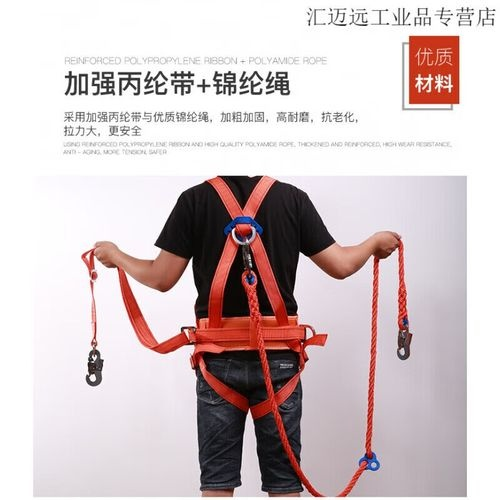safety belt: (168, 167, 327, 420)
